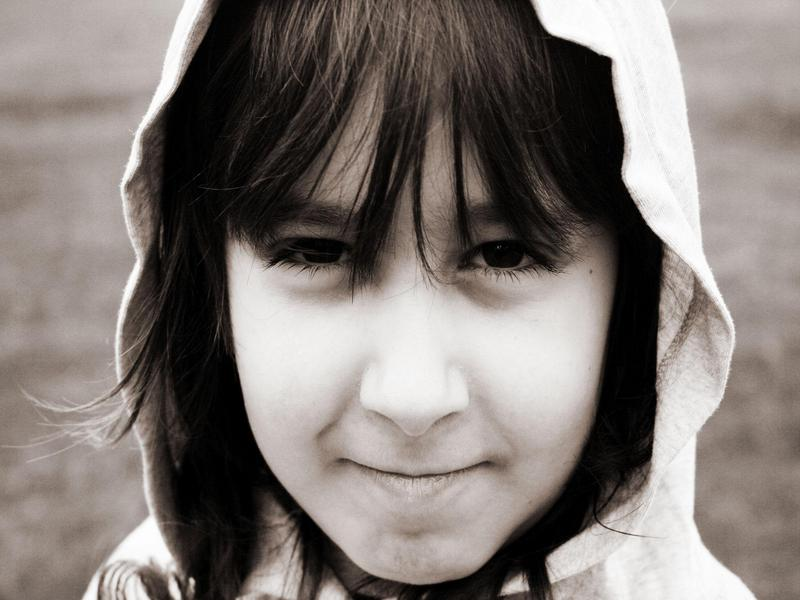person: (77, 1, 756, 600)
